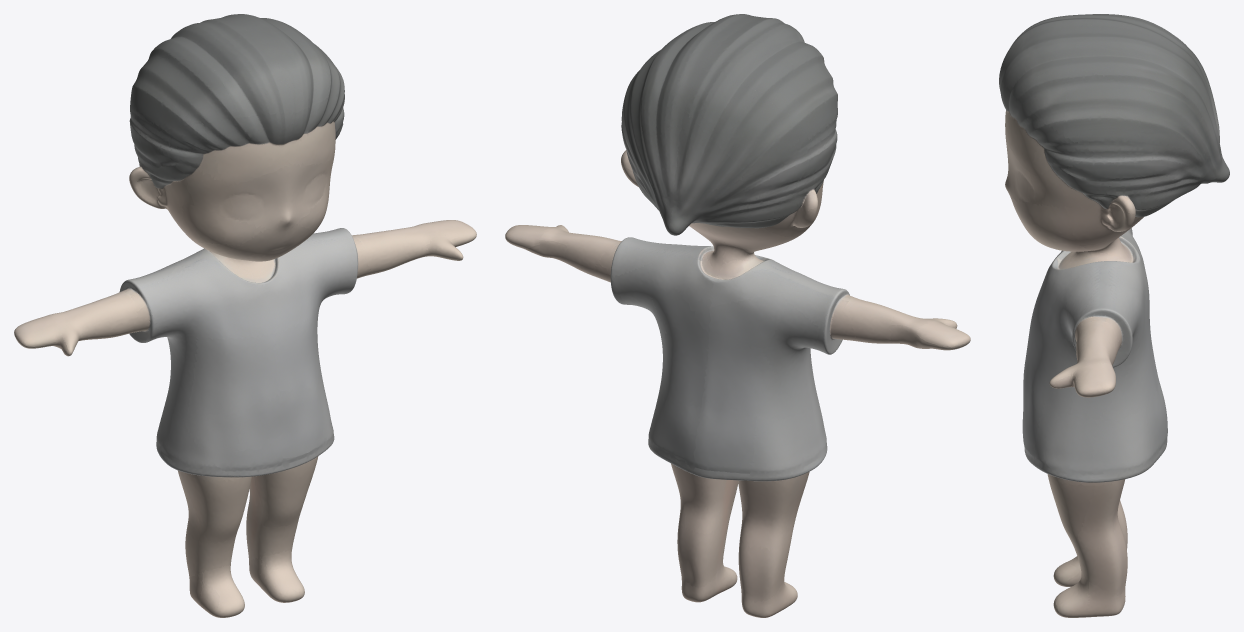
Rendered from baked_nhair_ashgray.glb.
The picture shows the model from 3 angles, left to right: view 1: azimuth 30°, elevation 25°; view 2: azimuth 150°, elevation 25°; view 3: azimuth 270°, elevation 25°; orthographic projection.
Bounding box in the file's own units: 1.59 × 1.9 × 0.6924.
1 material, 1 textured.
